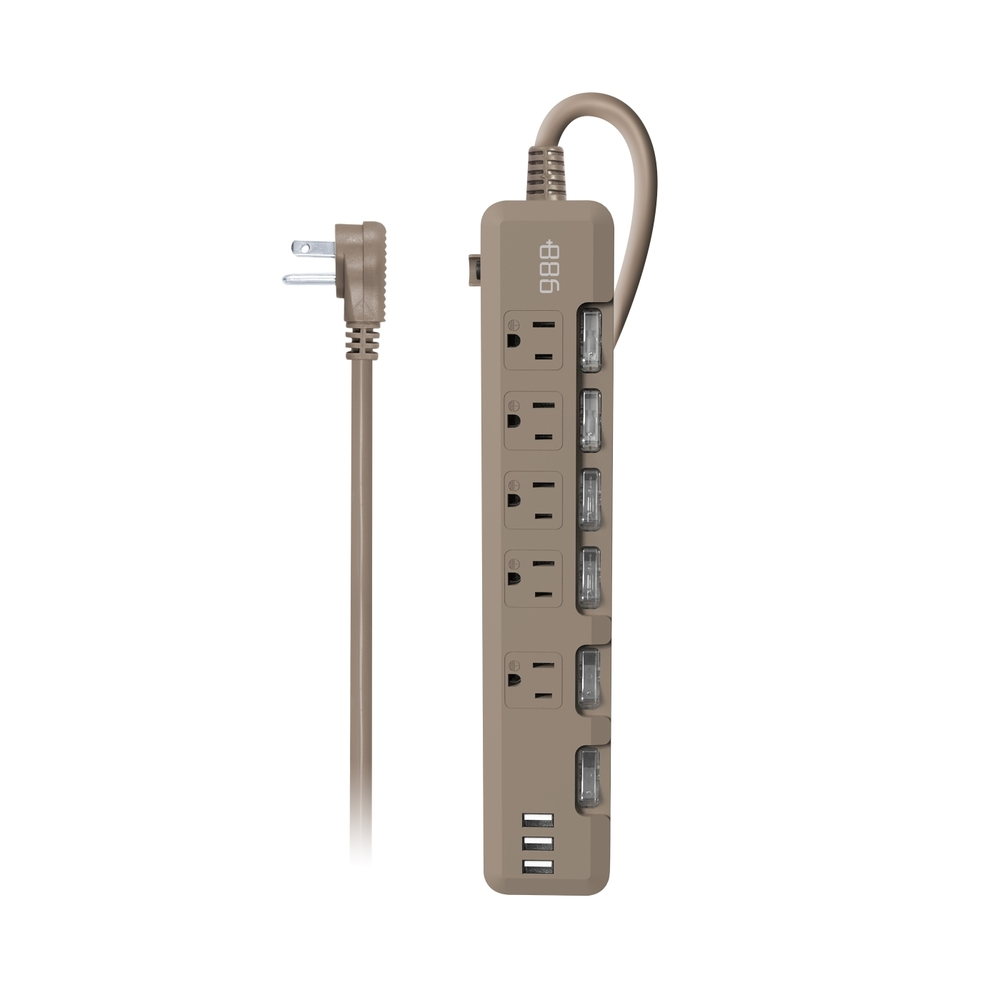socket: (474, 88, 658, 897)
